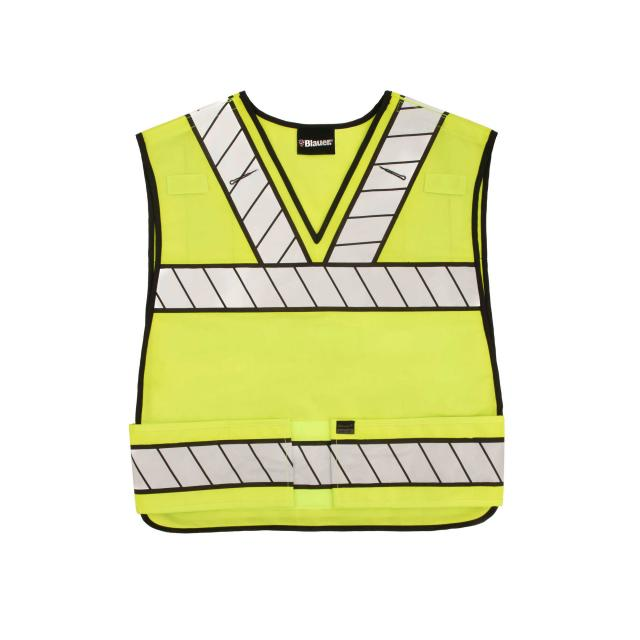Reflective-Jacket: (88, 82, 530, 549)
